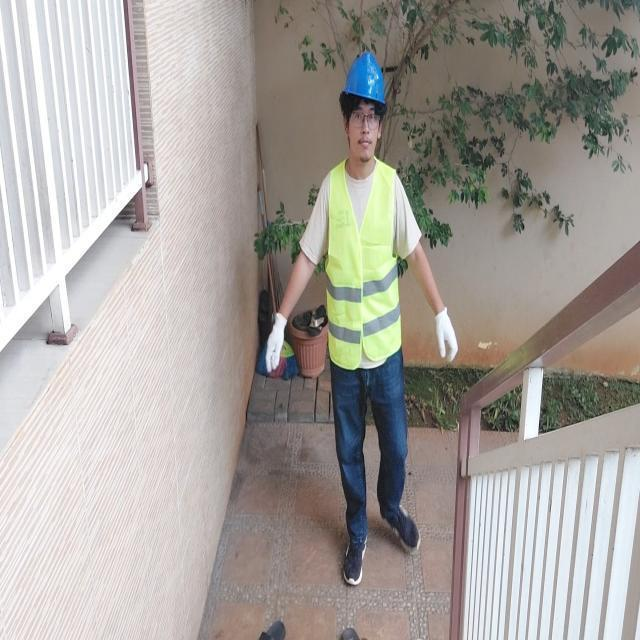helmet: (335, 46, 392, 108)
safety_vest: (320, 156, 404, 366)
